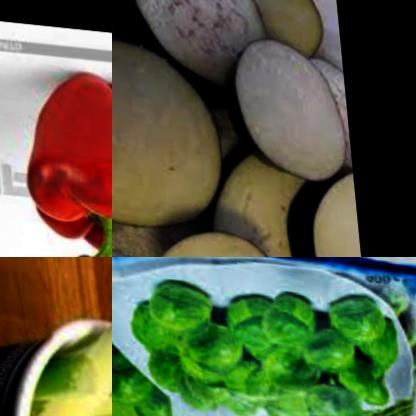bell pepper: (4, 59, 112, 257)
brus capusta: (125, 264, 416, 416), (112, 354, 172, 416)
celery: (6, 267, 112, 416)
eggplant: (112, 24, 224, 236), (218, 20, 348, 175), (187, 131, 326, 257), (113, 0, 275, 97), (274, 141, 361, 257), (232, 0, 330, 55), (139, 223, 282, 257)
